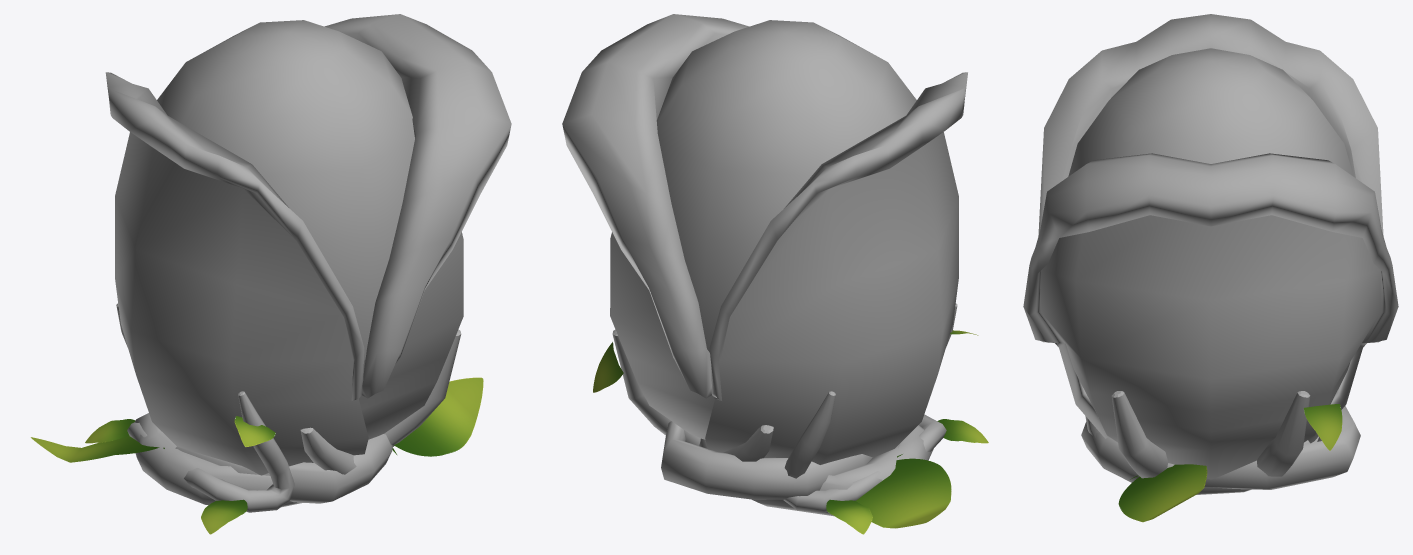
The model's file is MSH_BudPrototype_01.fbx.
3 views of the same model, side by side, from view 1: azimuth 30°, elevation 25°; view 2: azimuth 150°, elevation 25°; view 3: azimuth 270°, elevation 25° (orthographic). The views are drawn at different scales.
Visible parts, largest first — view 1: MSH_Bud_01; view 2: MSH_Bud_01; view 3: MSH_Bud_01.
Boxes of the visible parts, <box> form: MSH_Bud_01: <box>30,14,511,534</box>; MSH_Bud_01: <box>562,14,988,534</box>; MSH_Bud_01: <box>1023,14,1398,522</box>.
Bounding box in the file's own units: 75.73 × 70.65 × 58.79.
2 materials, 1 textured.
